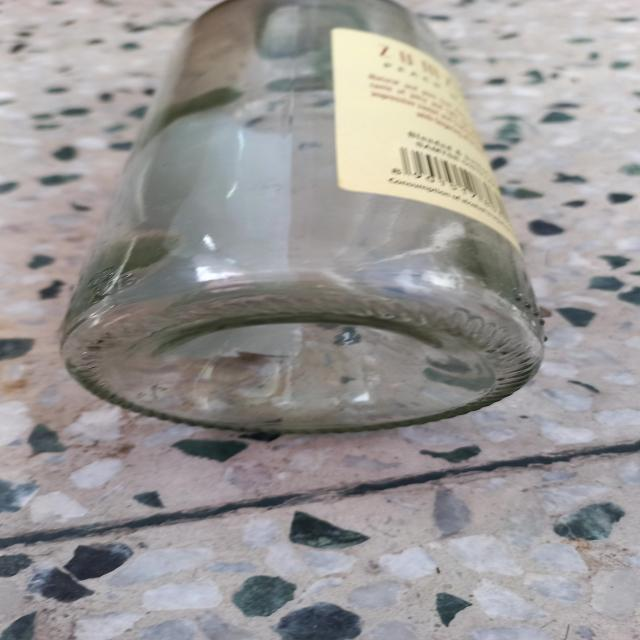Glass: (59, 0, 544, 435)
